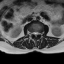CCS_normal: (35, 30, 36, 39)
LFS_stenosis: (39, 30, 41, 36)
LLS_normal: (36, 30, 38, 37)
RFS_normal: (31, 30, 33, 36)
RLS_normal: (33, 30, 35, 36)
